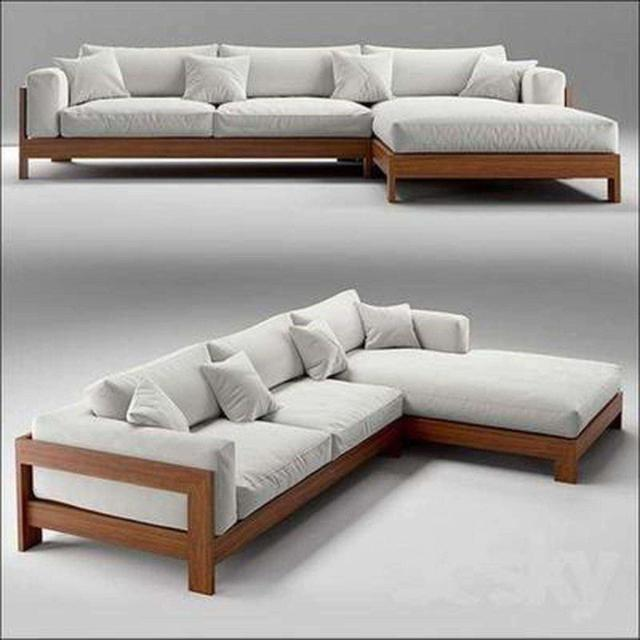sofa: (13, 286, 625, 596), (18, 40, 622, 203)
